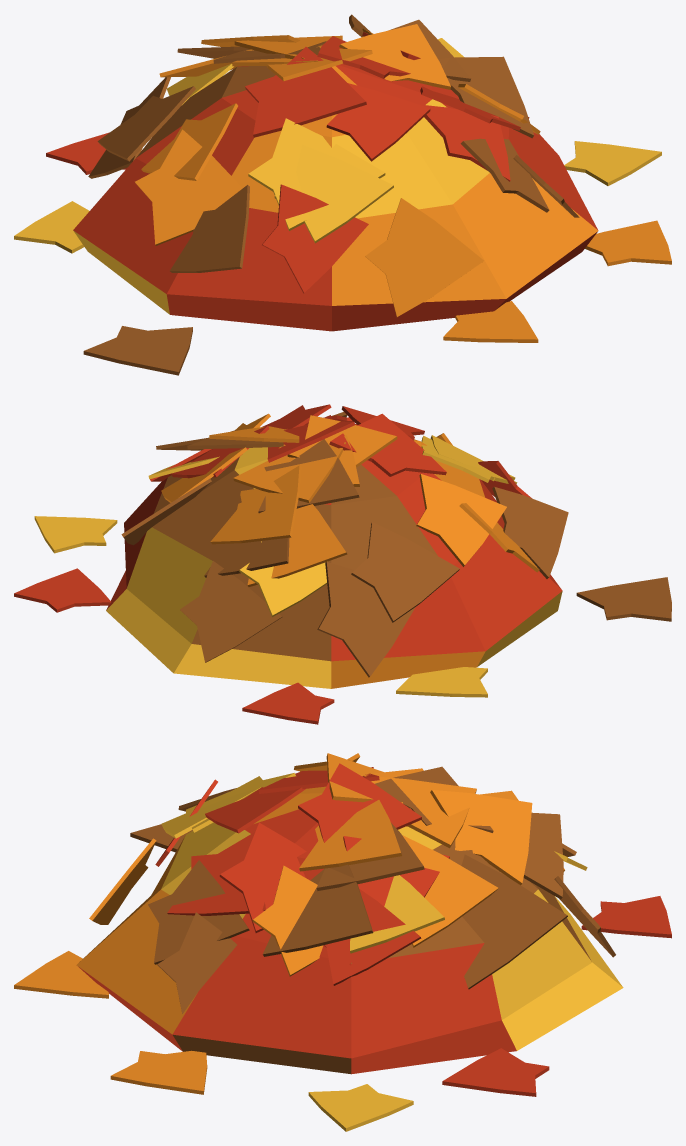
File: leaf-pile-1x1.glb
3 renders of one model, top to bottom at view 1: azimuth 30°, elevation 25°; view 2: azimuth 150°, elevation 25°; view 3: azimuth 270°, elevation 25°, orthographic. The views are drawn at different scales.
Visible parts, largest first — view 1: leaf-pile-1x1; view 2: leaf-pile-1x1; view 3: leaf-pile-1x1.
Part boxes in pixels (x1,y1,x2,y2): leaf-pile-1x1: (14, 14, 671, 375); leaf-pile-1x1: (14, 404, 671, 724); leaf-pile-1x1: (14, 753, 671, 1131).
Size of the model in its own units: 0.9 by 0.2551 by 0.7815.
1 material, 1 textured.
